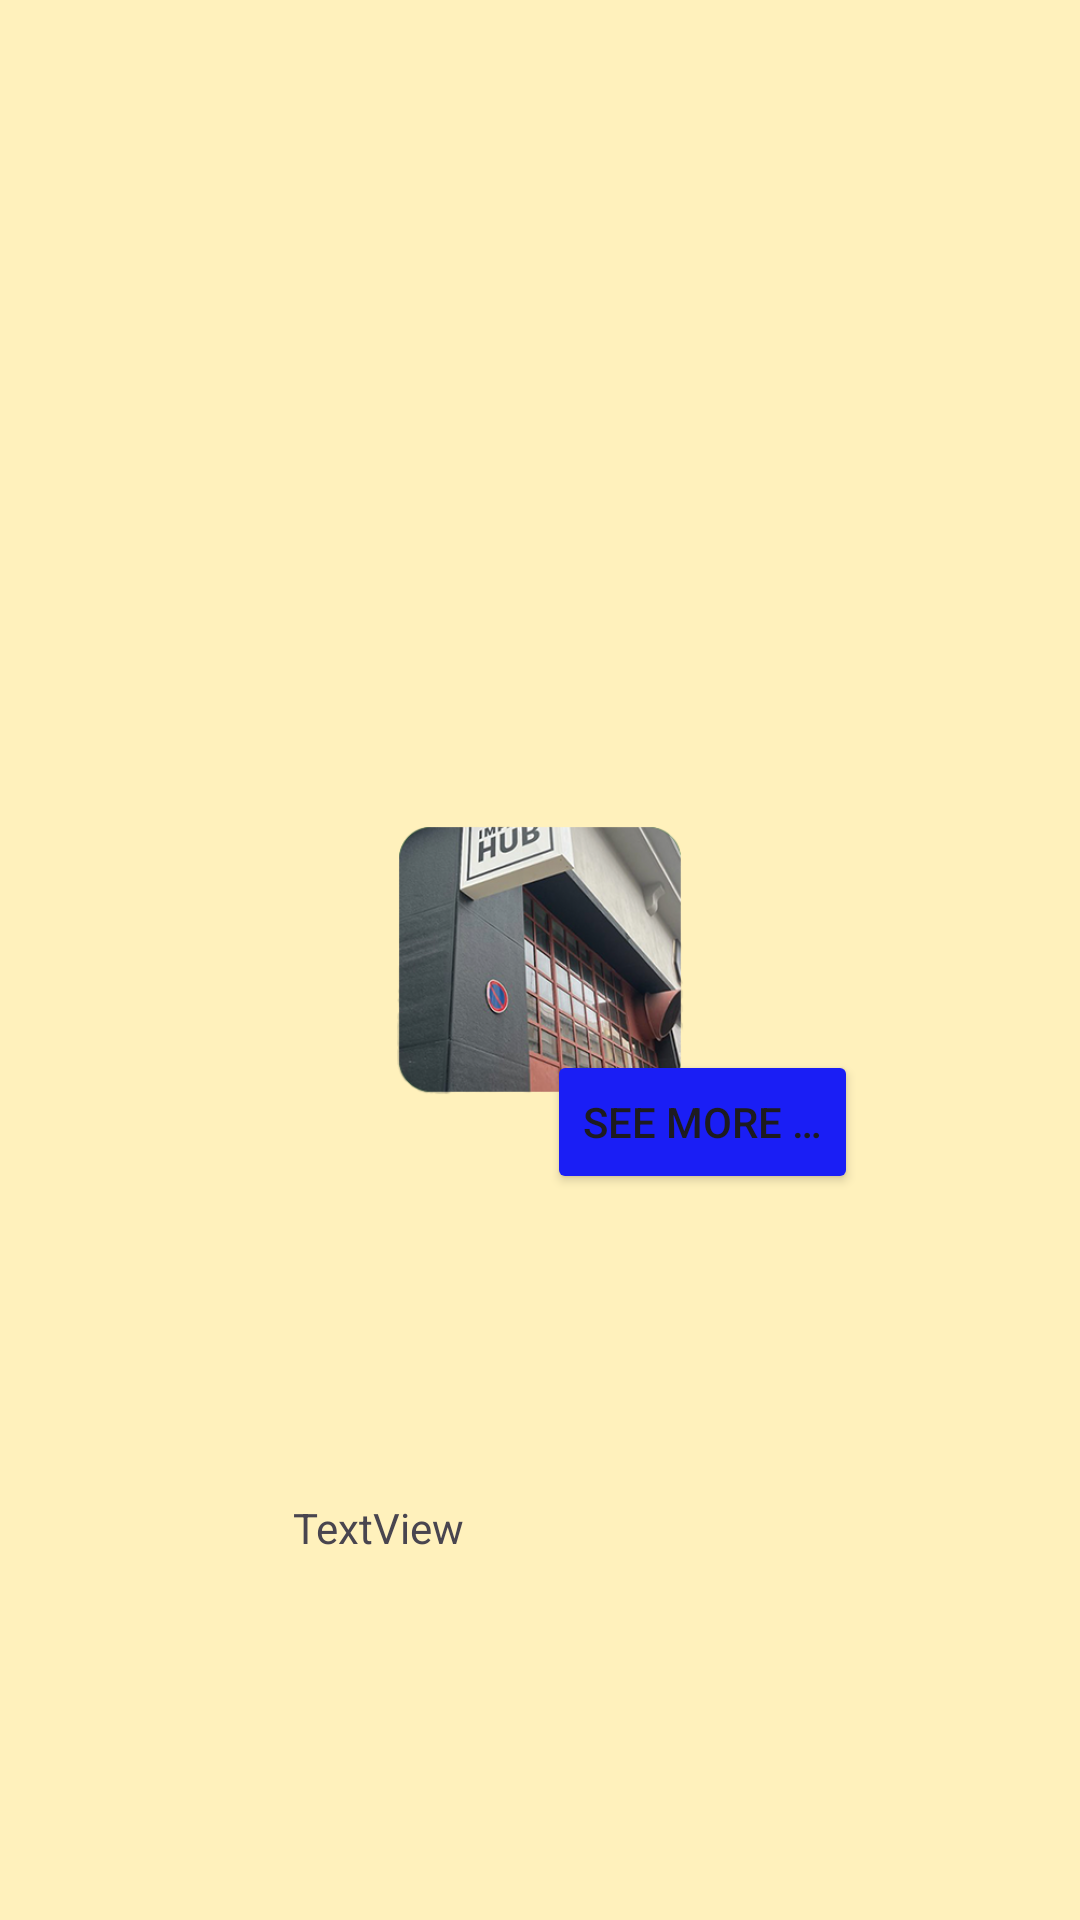

Icons on this 1080 × 1920 Android screen, each with its box as bbox=(x1, y1, x2, y2):
cowork space: bbox=(397, 827, 702, 1122)
